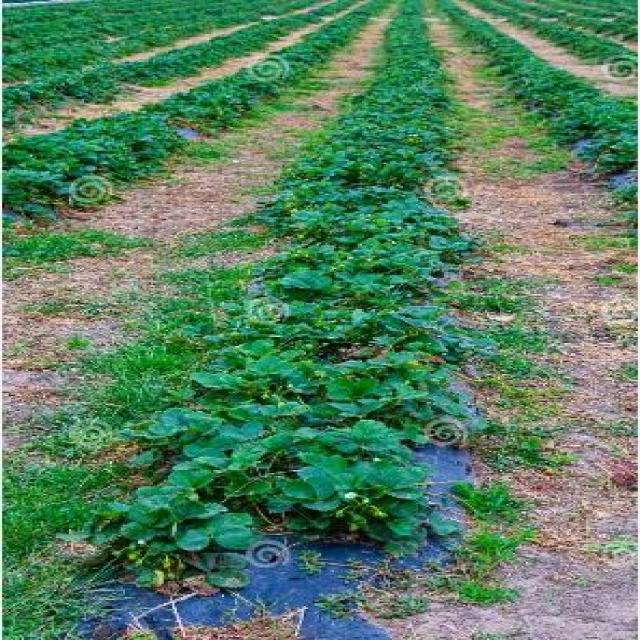row: (0, 2, 405, 638), (412, 8, 640, 637), (0, 20, 326, 149), (460, 0, 639, 118)
